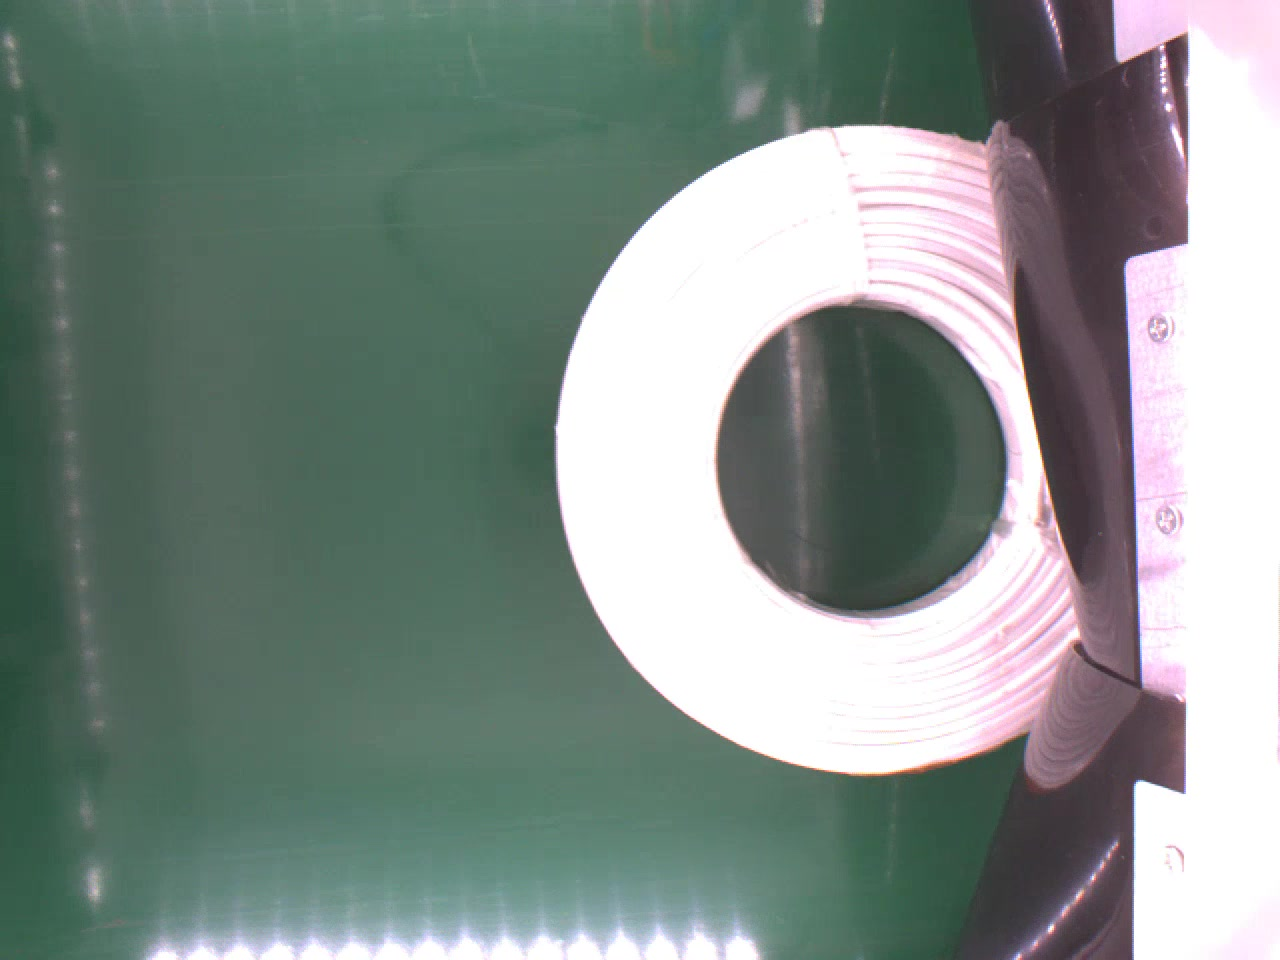white: (550, 120, 1077, 775)
